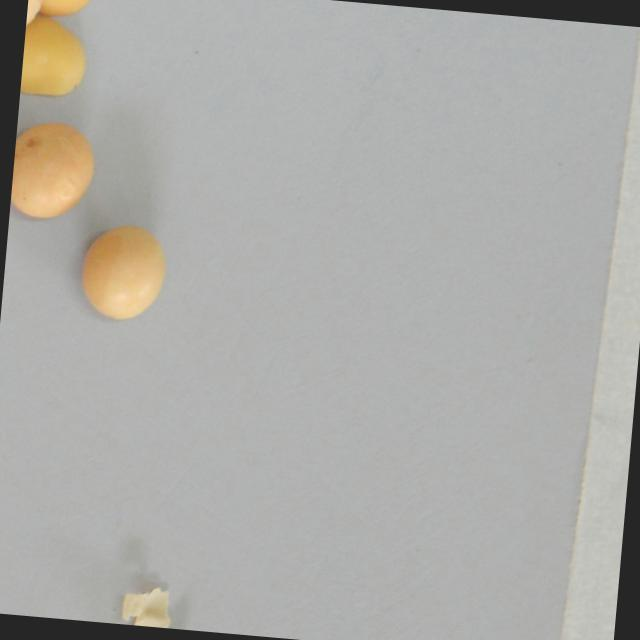cuerpos_extranos: (70, 215, 171, 322), (8, 121, 96, 226), (18, 2, 91, 107), (120, 582, 204, 631), (25, 0, 106, 29)
